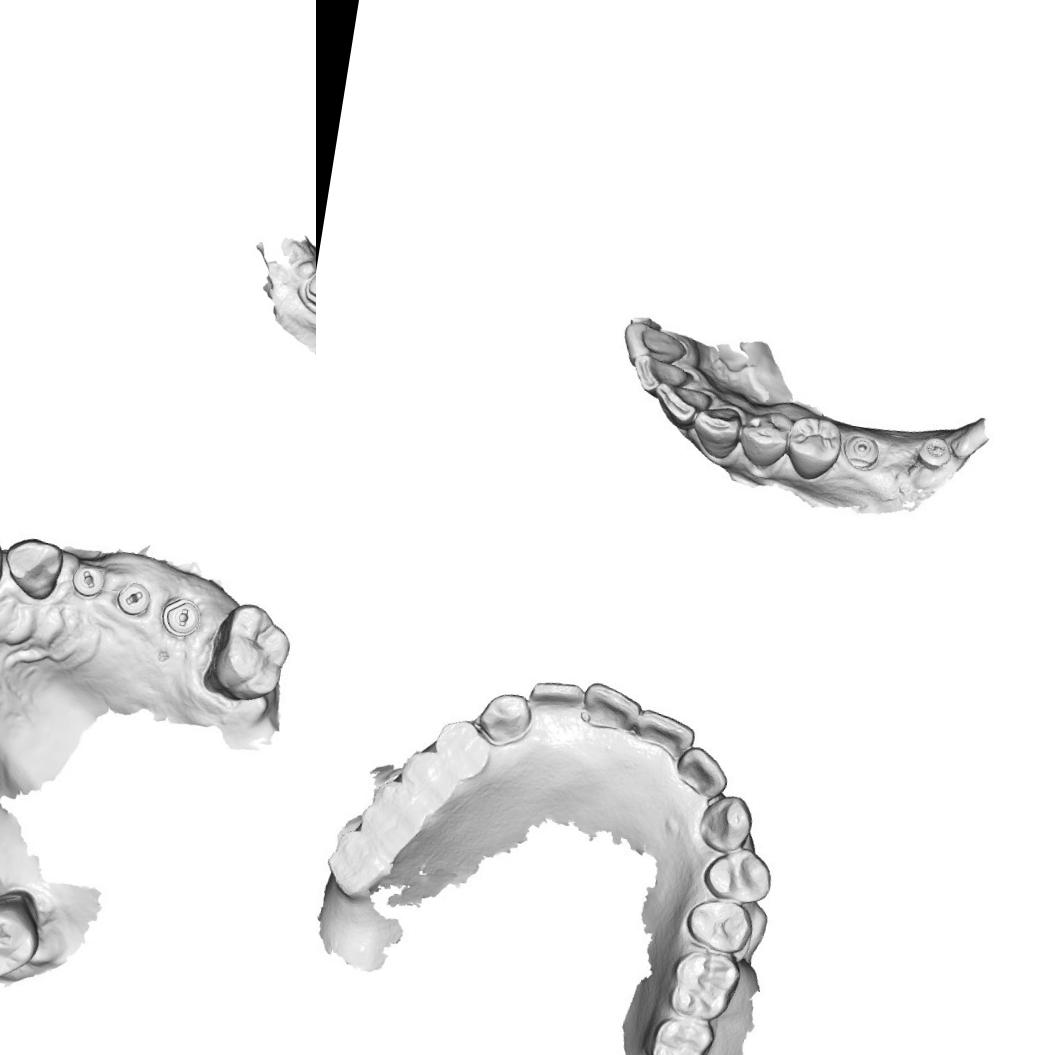canine: (0, 535, 68, 610), (694, 790, 756, 856), (476, 688, 537, 742), (691, 406, 740, 461)
implant: (916, 432, 950, 478), (840, 432, 880, 469)
implant_minus: (154, 593, 206, 643), (110, 579, 154, 627), (70, 560, 112, 602), (297, 268, 316, 314)
incisor: (577, 678, 647, 740), (632, 706, 695, 764), (677, 743, 734, 804), (623, 320, 688, 372), (632, 356, 701, 402), (523, 678, 585, 722), (656, 383, 707, 425)
molar: (200, 594, 297, 710), (668, 948, 738, 1020), (0, 892, 44, 988), (643, 1011, 715, 1055)
premolar: (428, 716, 494, 783), (684, 892, 754, 954), (702, 846, 774, 906), (736, 404, 795, 475), (396, 748, 458, 813), (782, 416, 843, 480)
